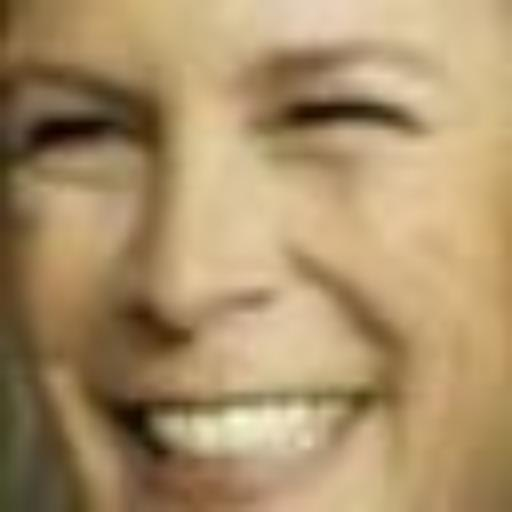left_eye: (262, 87, 435, 156)
left_lip_corner: (341, 377, 399, 420)
right_eye: (16, 106, 149, 165)
right_lip_corner: (111, 395, 161, 435)
